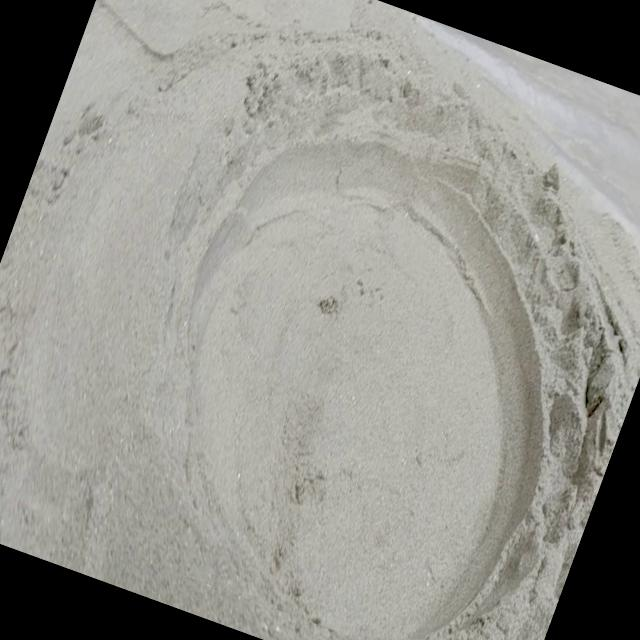C40: (178, 114, 575, 640)
